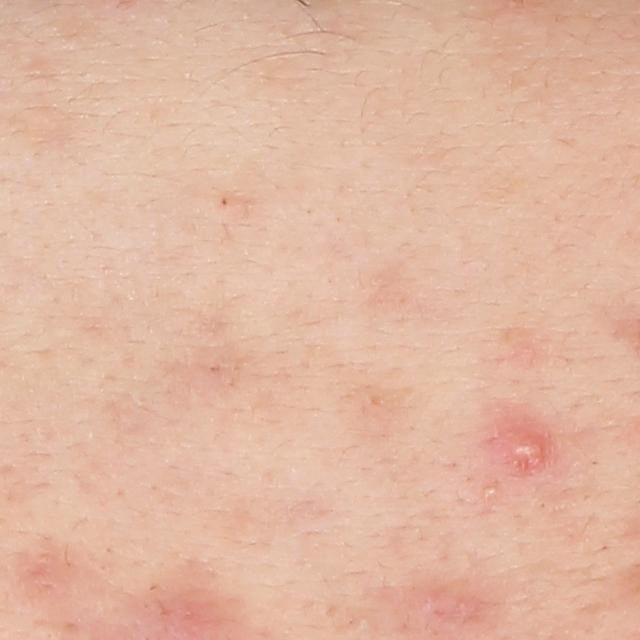pustule: (494, 421, 548, 477)
